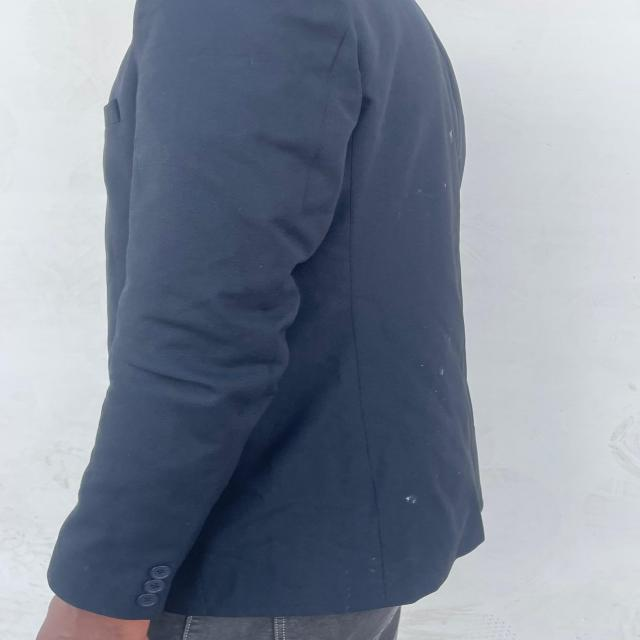uniform: (45, 0, 486, 629)
